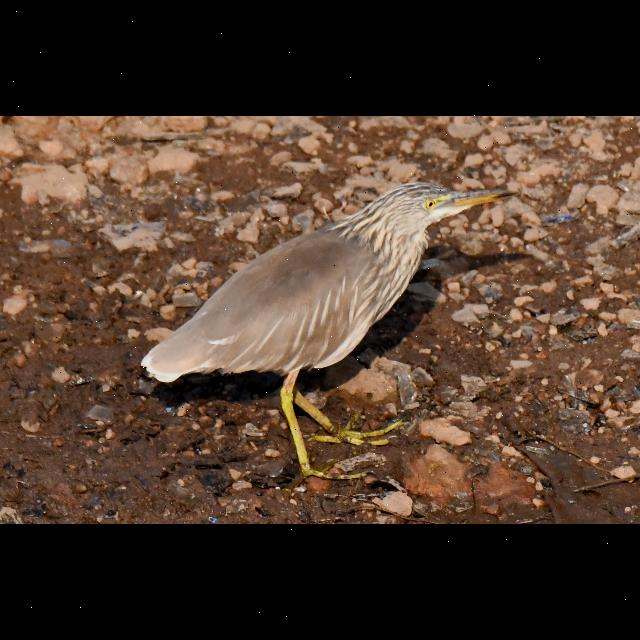heron: (151, 173, 527, 495)
